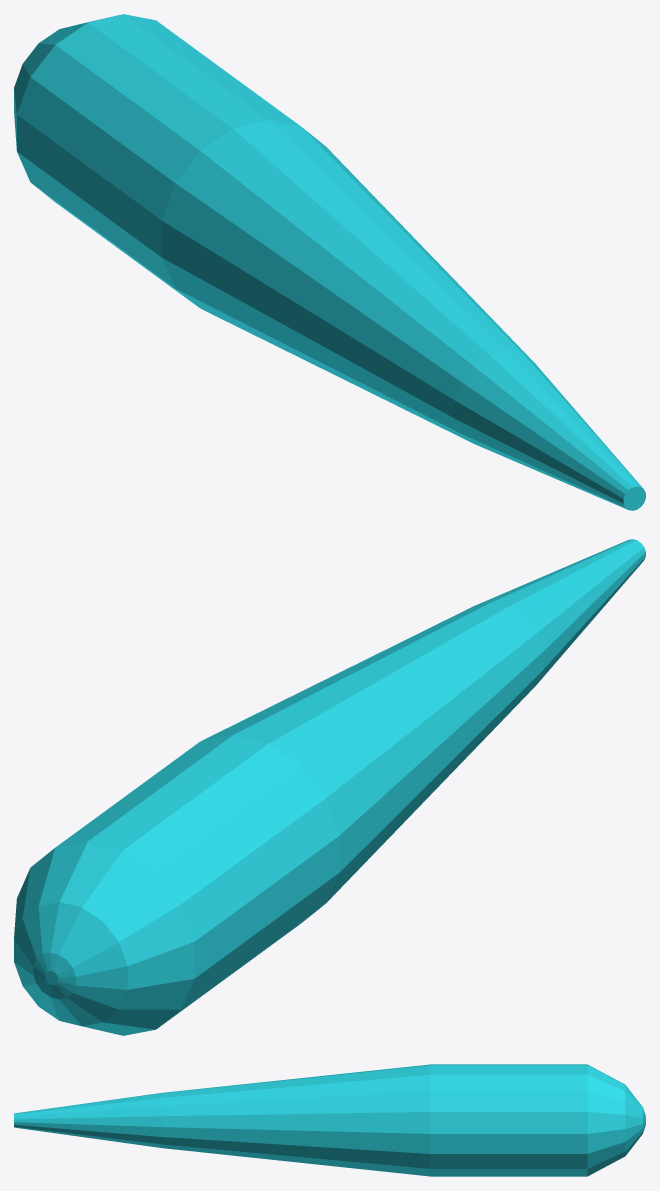
File: Bullet.fbx
3 views of the same model, one above another, from view 1: azimuth 30°, elevation 25°; view 2: azimuth 150°, elevation 25°; view 3: azimuth 270°, elevation 25° (orthographic). The views are drawn at different scales.
Visible parts, largest first — view 1: Cylinder; view 2: Cylinder; view 3: Cylinder.
Part boxes in pixels (x1,y1,x2,y2): Cylinder: (14,14,645,510); Cylinder: (14,539,645,1035); Cylinder: (14,1064,645,1176).
Size of the model in its own units: 39.23 by 39.23 by 223.
